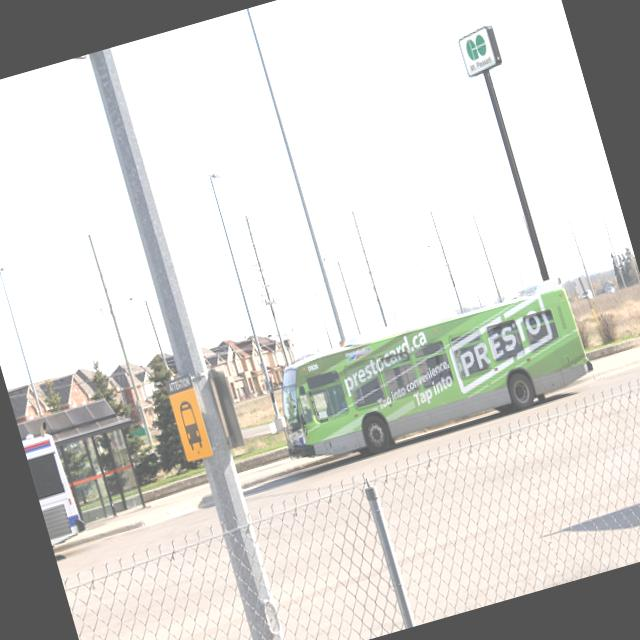Vehicle: (259, 272, 598, 482), (22, 429, 86, 550)
